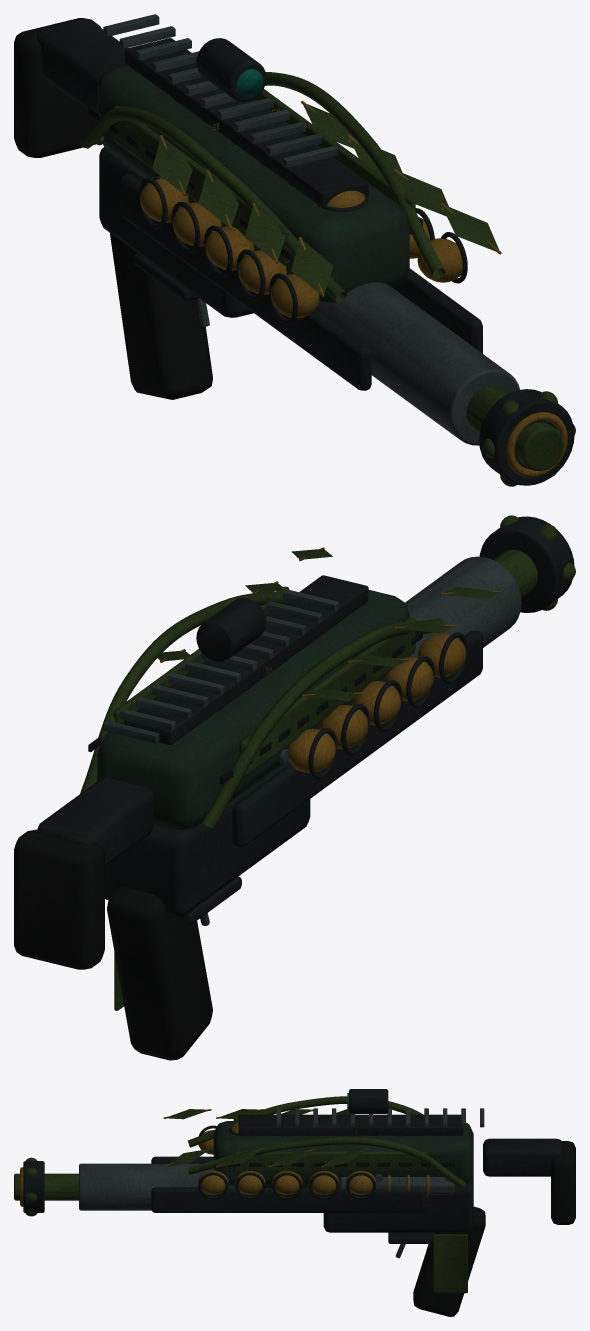
Rendered from SeedRepeater.glb.
The picture shows the model from 3 angles, top to bottom: view 1: azimuth 30°, elevation 25°; view 2: azimuth 150°, elevation 25°; view 3: azimuth 270°, elevation 25°; orthographic projection. The views are drawn at different scales.
Visible parts, largest first — view 1: VIS_CastIron, VIS_LeafOlive, VIS_WetSteel, VIS_Rubber, VIS_ForestCeramic, VIS_SeedAmber, VIS_OpticCyan; view 2: VIS_CastIron, VIS_Rubber, VIS_LeafOlive, VIS_ForestCeramic, VIS_WetSteel, VIS_SeedAmber; view 3: VIS_CastIron, VIS_LeafOlive, VIS_WetSteel, VIS_ForestCeramic, VIS_Rubber, VIS_SeedAmber.
Boxes of the visible parts, x1,y1,x2,y2 form: VIS_CastIron: (36, 19, 574, 485); VIS_LeafOlive: (80, 72, 575, 486); VIS_WetSteel: (95, 14, 519, 445); VIS_Rubber: (14, 18, 422, 399); VIS_ForestCeramic: (97, 65, 409, 302); VIS_SeedAmber: (140, 100, 567, 477); VIS_OpticCyan: (236, 69, 263, 97); VIS_CastIron: (36, 516, 574, 924); VIS_Rubber: (14, 631, 422, 1060); VIS_LeafOlive: (80, 515, 575, 1010); VIS_ForestCeramic: (97, 590, 409, 830); VIS_WetSteel: (103, 556, 521, 925); VIS_SeedAmber: (160, 547, 501, 772); VIS_CastIron: (23, 1089, 562, 1243); VIS_LeafOlive: (14, 1096, 467, 1293); VIS_WetSteel: (79, 1108, 484, 1258); VIS_ForestCeramic: (213, 1121, 473, 1186); VIS_Rubber: (227, 1141, 575, 1316); VIS_SeedAmber: (20, 1109, 429, 1206).
Size of the model in its own units: 0.2574 by 0.4911 by 1.12.
7 materials, 7 textured.
